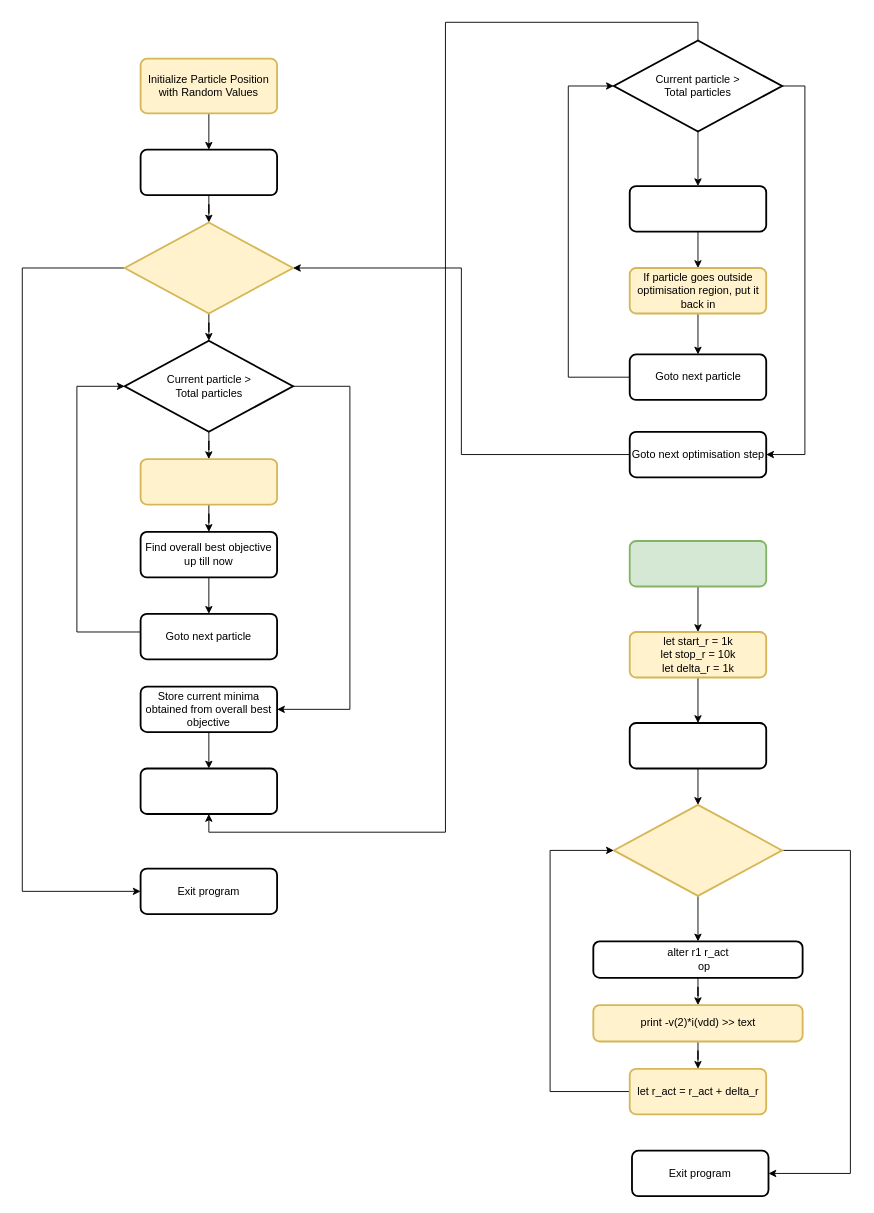
Some shapes in this 874 by 1213 pixel diagram are drawn without their labels. Here are the shapes that lost their labels. From the top down, the centre of each, then its label:
pixel 208 172: Start optimisation loop
pixel 697 208: Update particle velocity and move particle
pixel 208 267: Is Iteration > Max Interations
pixel 208 481: Compute current particle objective
pixel 697 563: Define Net list
pixel 697 745: Start Parameter Sweep
pixel 208 790: Update personal best objective for all particles
pixel 697 850: r_act <= stop_r
